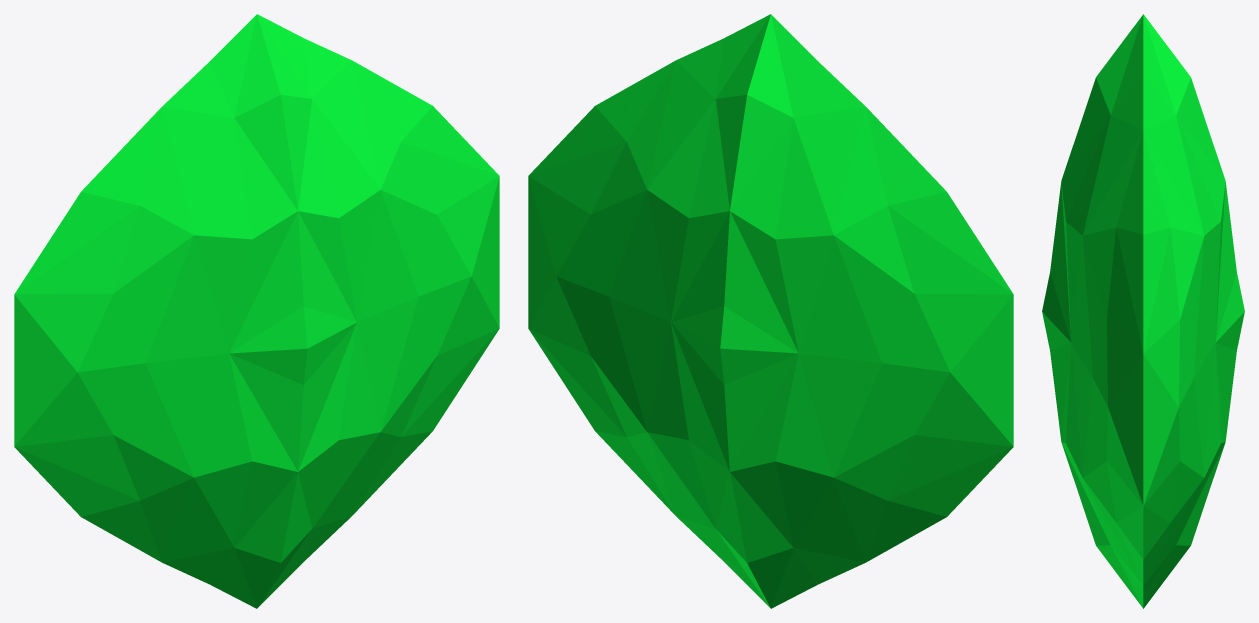
File: orb.glb
The picture shows the model from 3 angles, left to right: view 1: azimuth 30°, elevation 25°; view 2: azimuth 150°, elevation 25°; view 3: azimuth 270°, elevation 25°; orthographic projection.
Visible parts, largest first — view 1: Cube; view 2: Cube; view 3: Cube.
Boxes of the visible parts, box(x1,y1,x2,y2) form: Cube: box(14, 14, 499, 608); Cube: box(528, 14, 1013, 608); Cube: box(1042, 14, 1244, 608).
Bounding box in the file's own units: 2.12 × 2.48 × 0.7672.
Materials: 1 (1 with a texture image).
